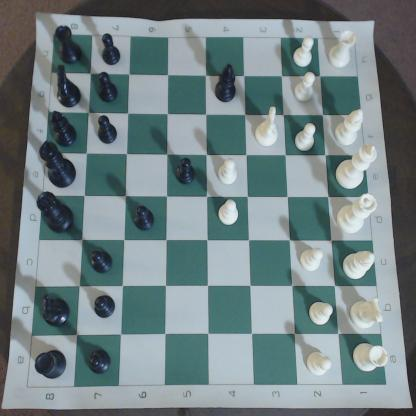black-bishop: (50, 110, 81, 149), (215, 63, 239, 105)
black-king: (37, 140, 79, 190)
black-knight: (40, 293, 73, 331), (54, 69, 84, 110)
black-pawn: (101, 30, 125, 68), (130, 206, 158, 234), (85, 348, 113, 376), (96, 116, 120, 148), (100, 71, 122, 105), (176, 156, 199, 188), (91, 251, 115, 278), (94, 295, 119, 319)
black-queen: (34, 191, 75, 234)
black-rook: (53, 23, 88, 68), (35, 349, 70, 380)
white-bishop: (336, 109, 368, 146), (344, 250, 378, 282)
white-king: (336, 192, 380, 237), (338, 144, 379, 190)
white-knight: (351, 299, 387, 329), (258, 106, 283, 146)
white-pawn: (291, 35, 319, 69), (303, 351, 336, 379), (293, 74, 321, 105), (294, 122, 319, 154), (307, 301, 337, 327), (300, 248, 327, 276), (216, 157, 240, 186), (219, 198, 241, 229)
white-rook: (330, 28, 359, 71), (353, 343, 391, 373)
